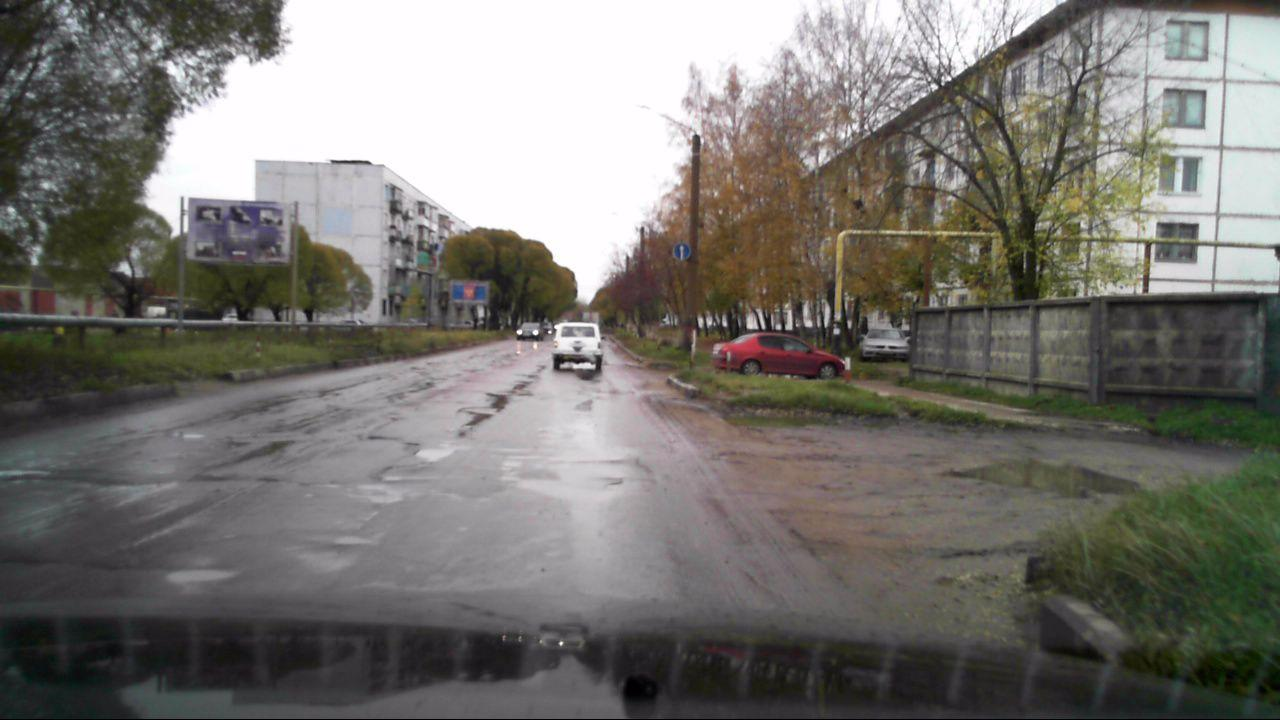4_1_1: (670, 241, 690, 261)
